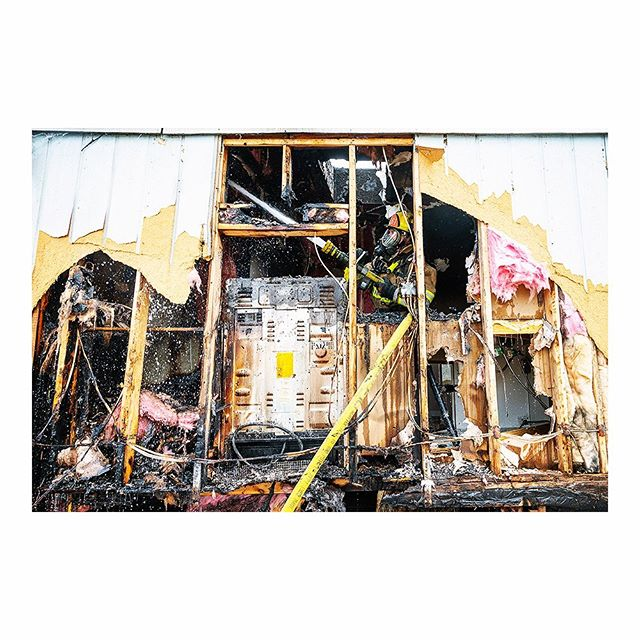building: (35, 122, 606, 508)
firefighter: (334, 204, 430, 308)
